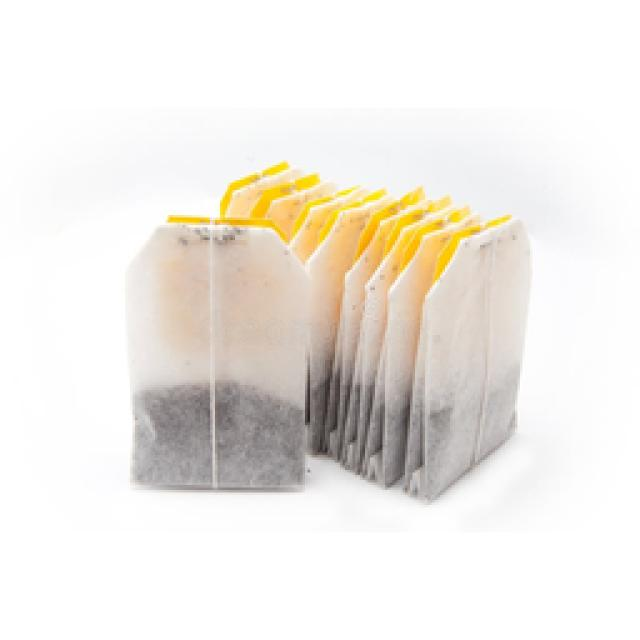tea-bags: (128, 162, 530, 498)
